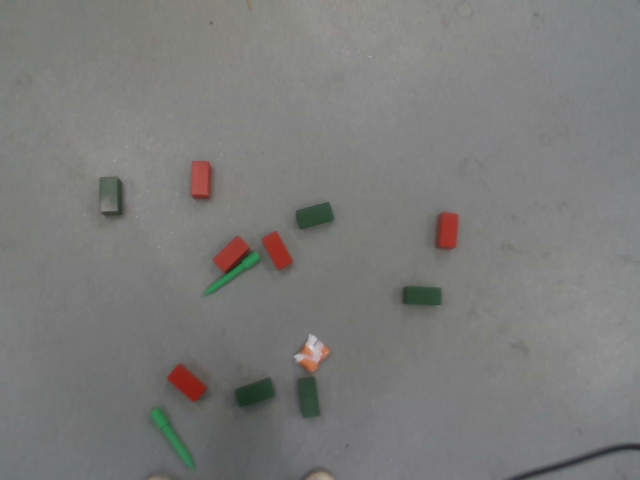Probe: (147, 405, 199, 471), (199, 247, 263, 298)
